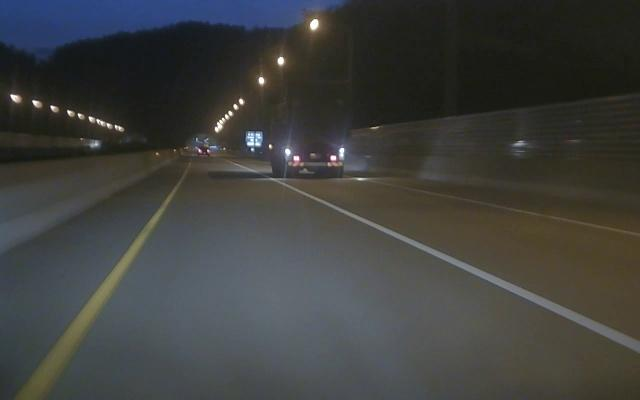lane: (281, 182, 639, 352), (10, 188, 176, 399), (408, 187, 640, 238)
